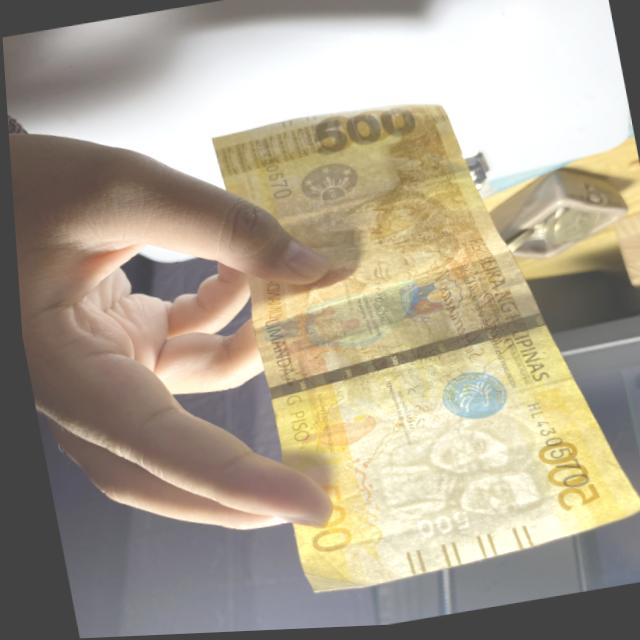500_big_parrot: (244, 261, 452, 365)
500_parrot_watermark: (286, 411, 380, 460)
value_watermark: (403, 511, 466, 544)
watermark: (362, 411, 550, 544)
